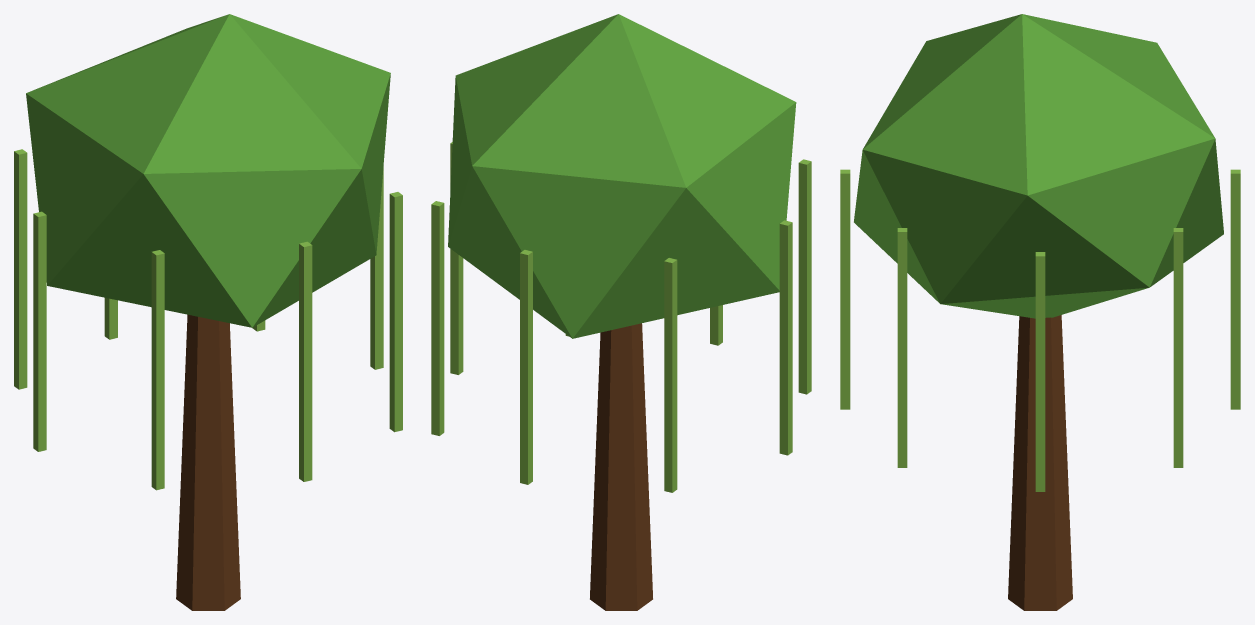
The model's file is town_riverside_willow.glb.
3 views of the same model, side by side, from view 1: azimuth 30°, elevation 25°; view 2: azimuth 150°, elevation 25°; view 3: azimuth 270°, elevation 25° (orthographic). The views are drawn at different scales.
Parts seen in each view (by area): view 1: riverside_willow; view 2: riverside_willow; view 3: riverside_willow.
Boxes of the visible parts, left/top/right/bottom form: riverside_willow: left=14, top=14, right=402, bottom=610; riverside_willow: left=431, top=14, right=811, bottom=610; riverside_willow: left=840, top=14, right=1240, bottom=610.
Size of the model in its own units: 2.48 by 4.01 by 2.46.
